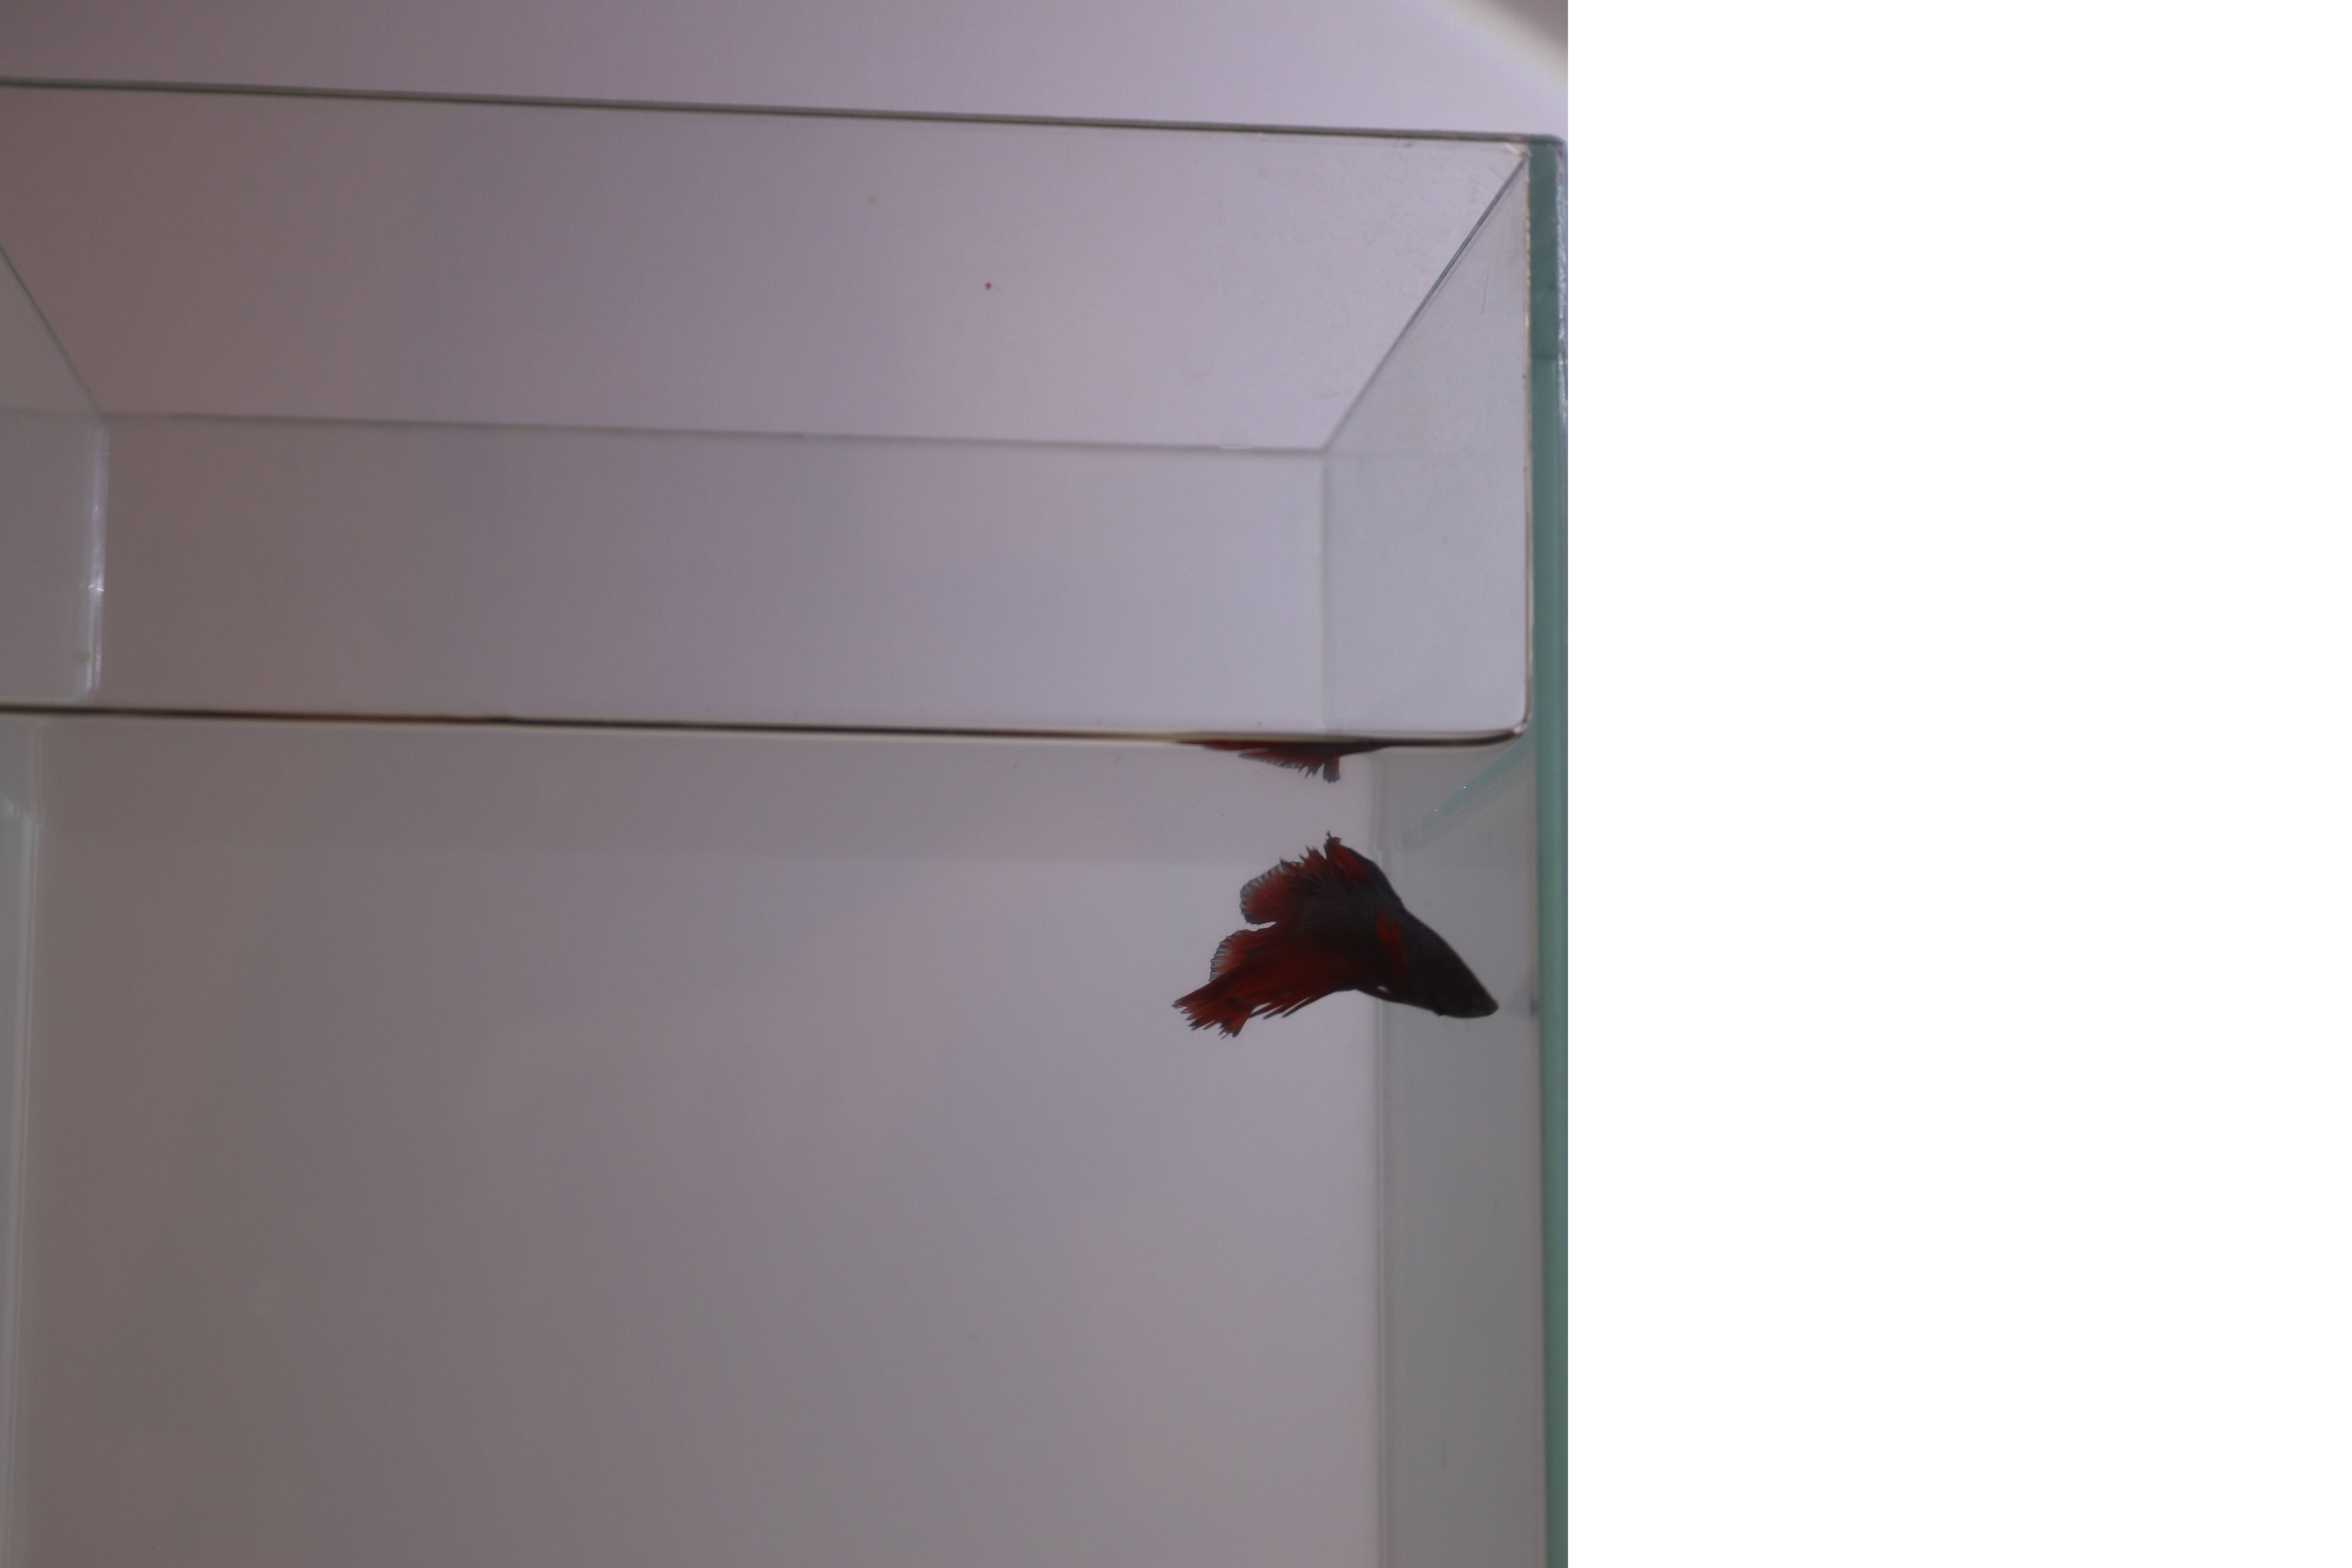fish: (1171, 828, 1503, 1083)
